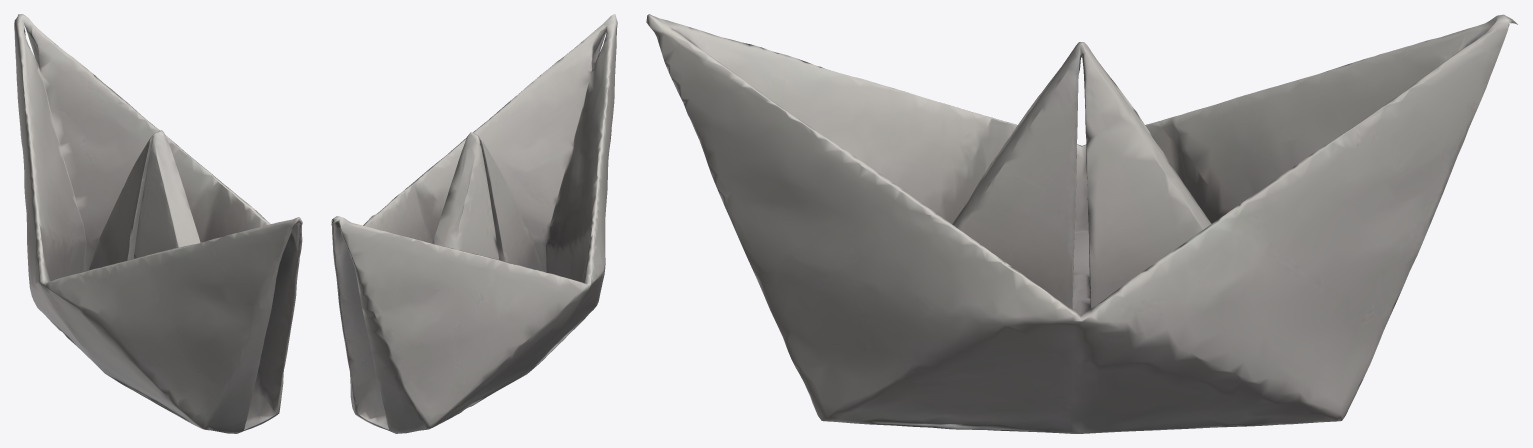
3 renders of one model, left to right at view 1: azimuth 30°, elevation 25°; view 2: azimuth 150°, elevation 25°; view 3: azimuth 270°, elevation 25°, orthographic. The views are drawn at different scales.
Parts seen in each view (by area): view 1: tripo_node_3dfc30ea-a703-46a0-8e9b-e3413ced2c55; view 2: tripo_node_3dfc30ea-a703-46a0-8e9b-e3413ced2c55; view 3: tripo_node_3dfc30ea-a703-46a0-8e9b-e3413ced2c55.
Boxes of the visible parts, x1,y1,x2,y2 form: tripo_node_3dfc30ea-a703-46a0-8e9b-e3413ced2c55: (14,14,302,433); tripo_node_3dfc30ea-a703-46a0-8e9b-e3413ced2c55: (331,14,617,433); tripo_node_3dfc30ea-a703-46a0-8e9b-e3413ced2c55: (646,14,1517,433).
Bounding box in the file's own units: 0.1404 × 0.15 × 0.2955.
1 material, 1 textured.
